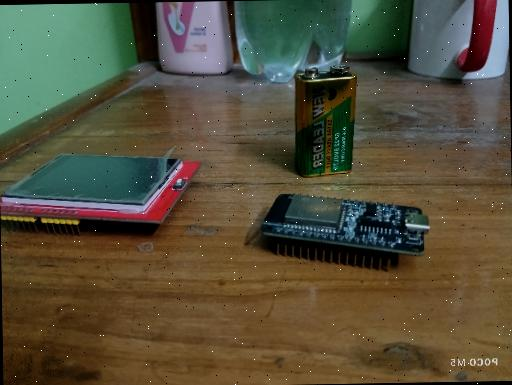Battery: (292, 63, 359, 178)
Display: (0, 149, 202, 238)
Esp32: (260, 189, 430, 275)
